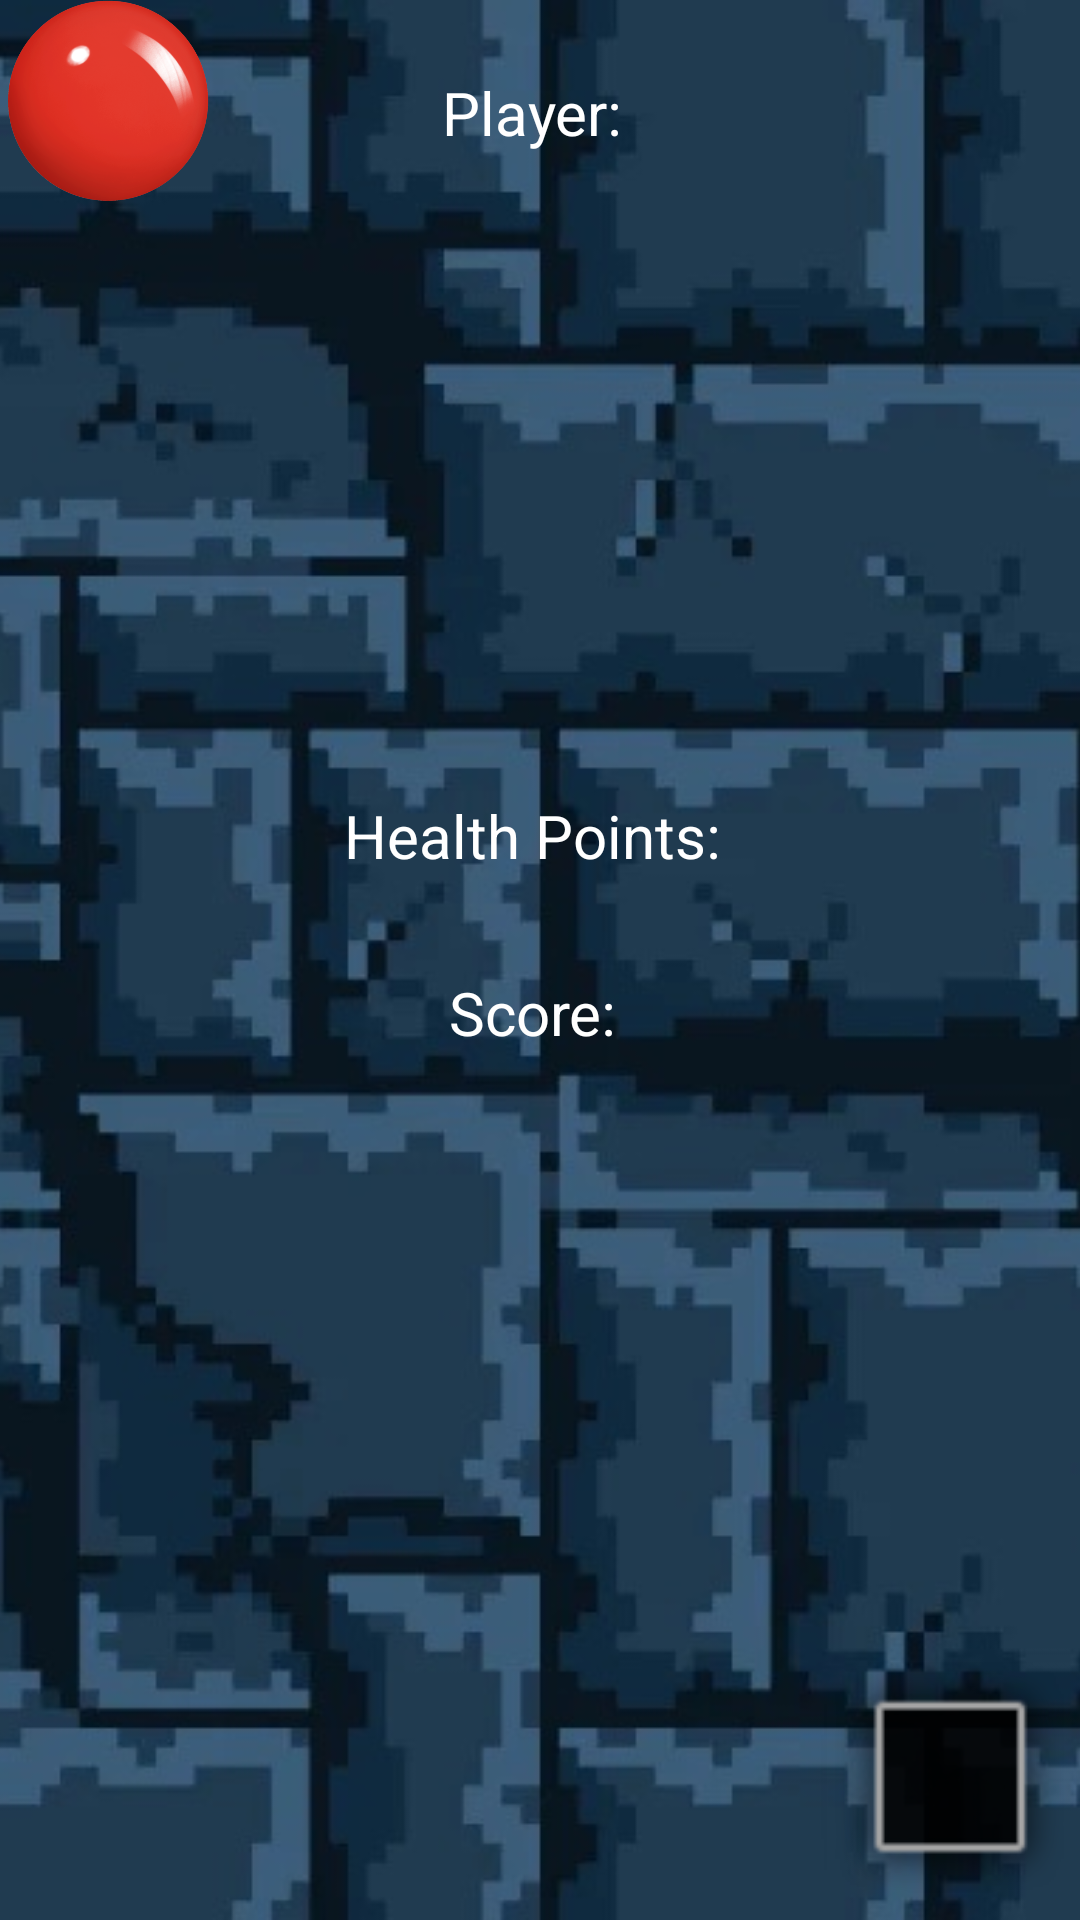

Locate icon controls on the screen. Image size 1080×1920, boxes as region(x1, y1, x2, y2).
pngfind shine: region(0, 1, 216, 201)
